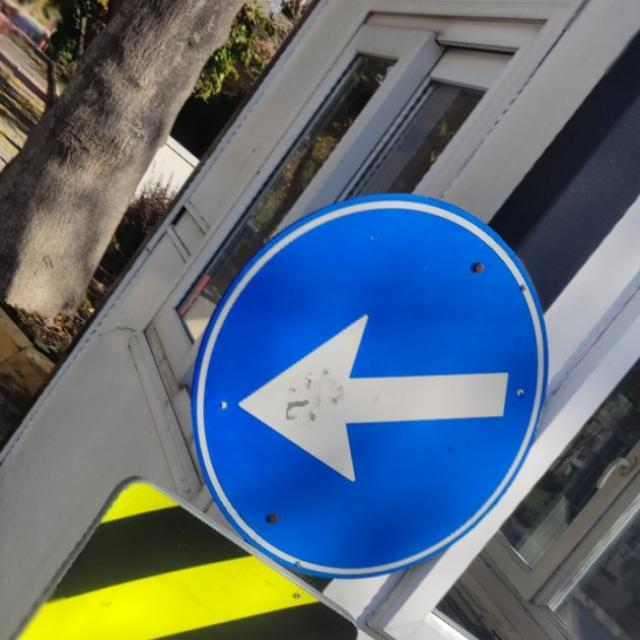Turn Left: (211, 194, 533, 577)
